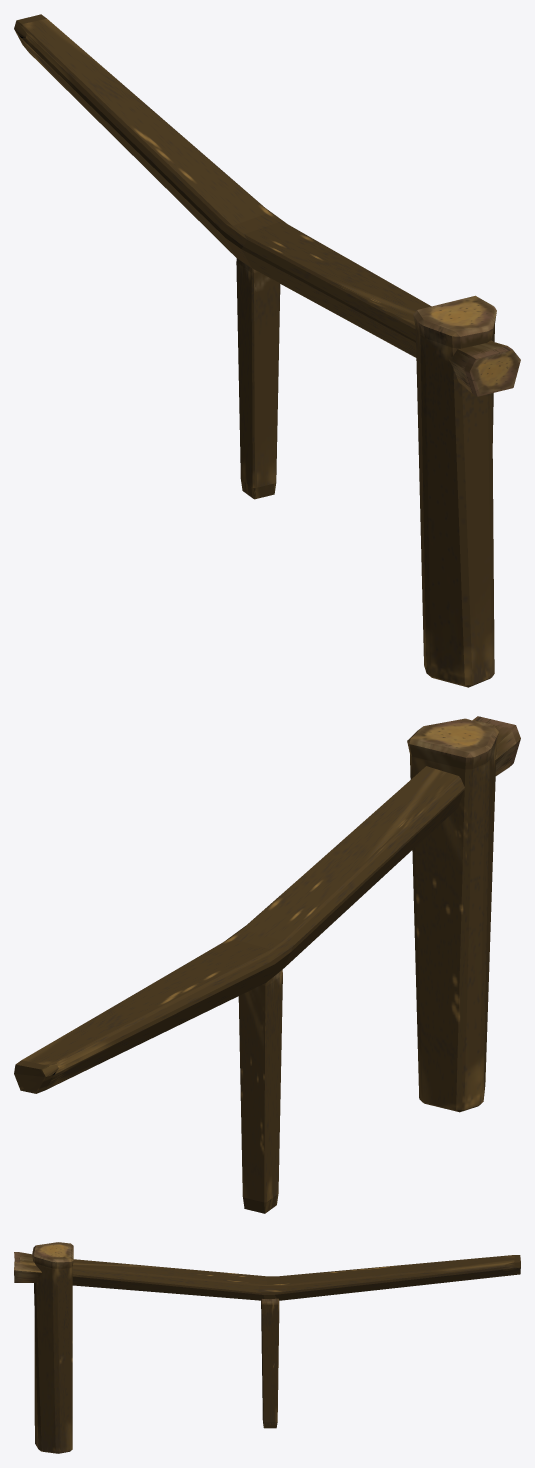
File: FenceH1.fbx
The picture shows the model from 3 angles, top to bottom: view 1: azimuth 30°, elevation 25°; view 2: azimuth 150°, elevation 25°; view 3: azimuth 270°, elevation 25°; orthographic projection. The views are drawn at different scales.
Parts seen in each view (by area): view 1: FencePeice, LogM, LogS; view 2: FencePeice, LogM, LogS; view 3: FencePeice, LogM, LogS.
Boxes of the visible parts, x1=… form: FencePeice: x1=14, y1=14, x2=520, y2=396; LogM: x1=413, y1=295, x2=496, y2=687; LogS: x1=236, y1=258, x2=280, y2=499; FencePeice: x1=14, y1=716, x2=520, y2=1093; LogM: x1=407, y1=718, x2=498, y2=1112; LogS: x1=238, y1=970, x2=282, y2=1213; FencePeice: x1=14, y1=1252, x2=520, y2=1300; LogM: x1=32, y1=1242, x2=73, y2=1453; LogS: x1=261, y1=1298, x2=279, y2=1428.
Bounding box in the file's own units: 84.05 × 399 × 934.
